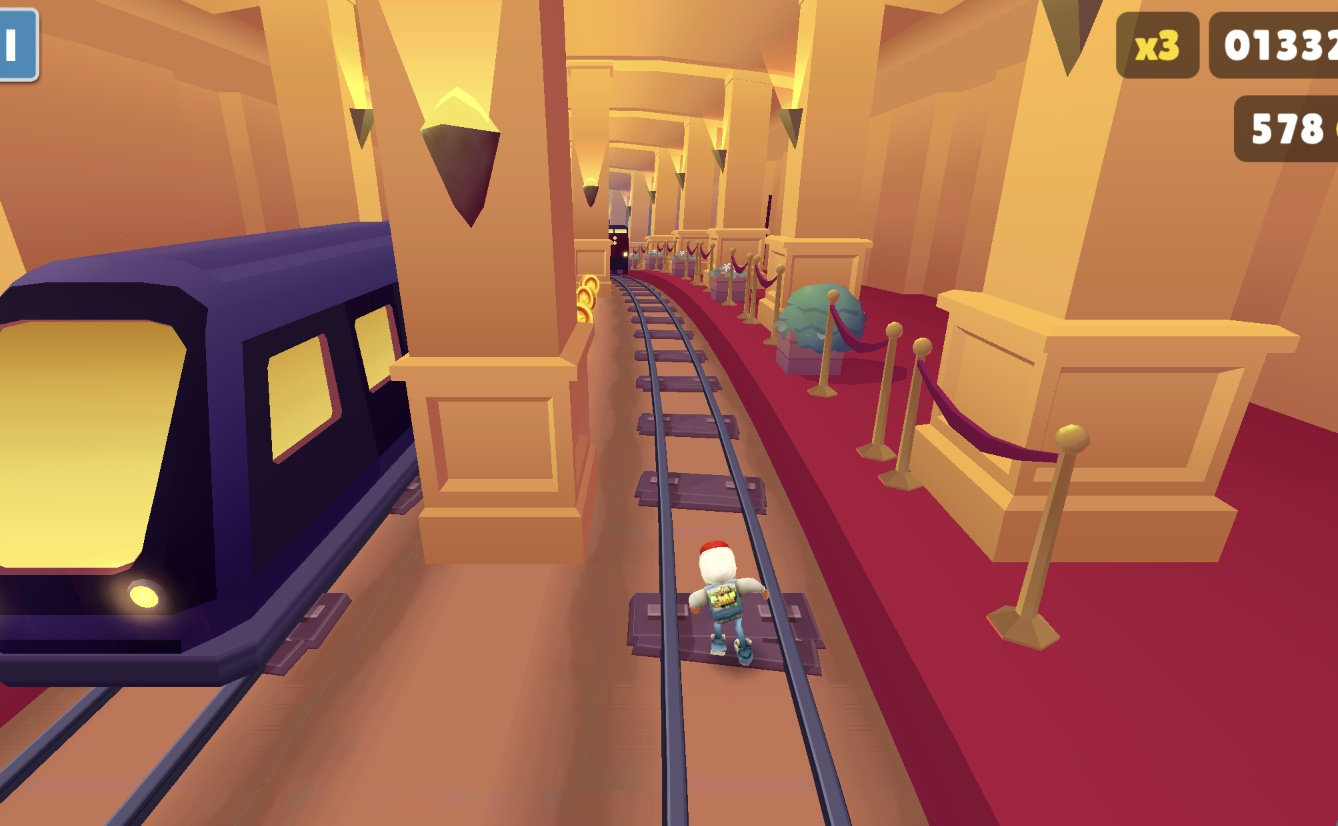pillar: (305, 0, 587, 564)
train: (0, 217, 424, 694), (609, 217, 629, 277)
